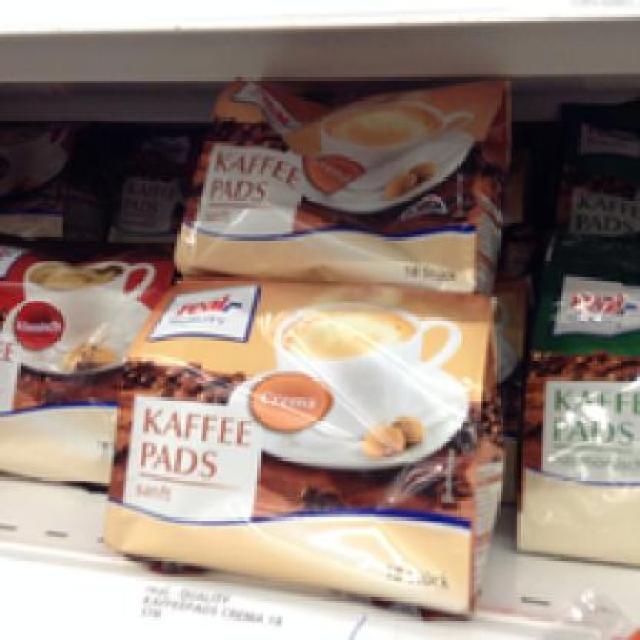Coffee: (106, 274, 503, 617), (172, 80, 508, 286), (0, 240, 155, 481)
